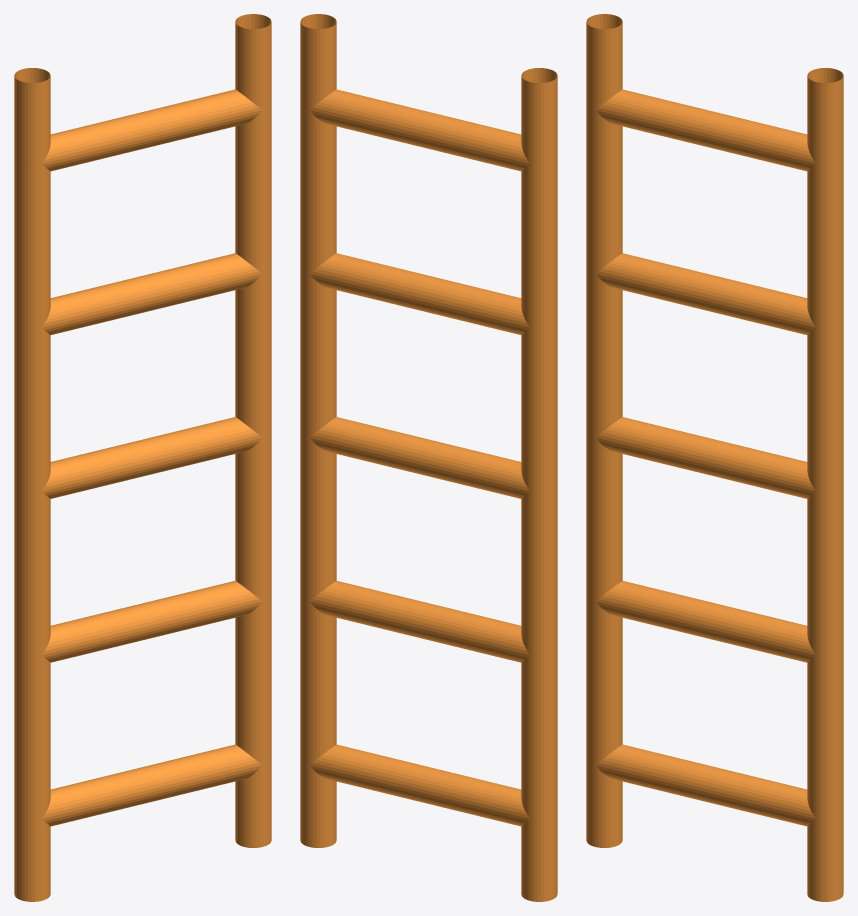
File: Ladder.fbx
The picture shows the model from 3 angles, left to right: view 1: azimuth 30°, elevation 25°; view 2: azimuth 150°, elevation 25°; view 3: azimuth 330°, elevation 25°; orthographic projection.
Visible parts, largest first — view 1: Ladder; view 2: Ladder; view 3: Ladder.
Part boxes in pixels (x1,y1,x2,y2): Ladder: (14, 14, 271, 901); Ladder: (300, 14, 557, 901); Ladder: (586, 14, 843, 901).
Bounding box in the file's own units: 1612 × 5000 × 200.
